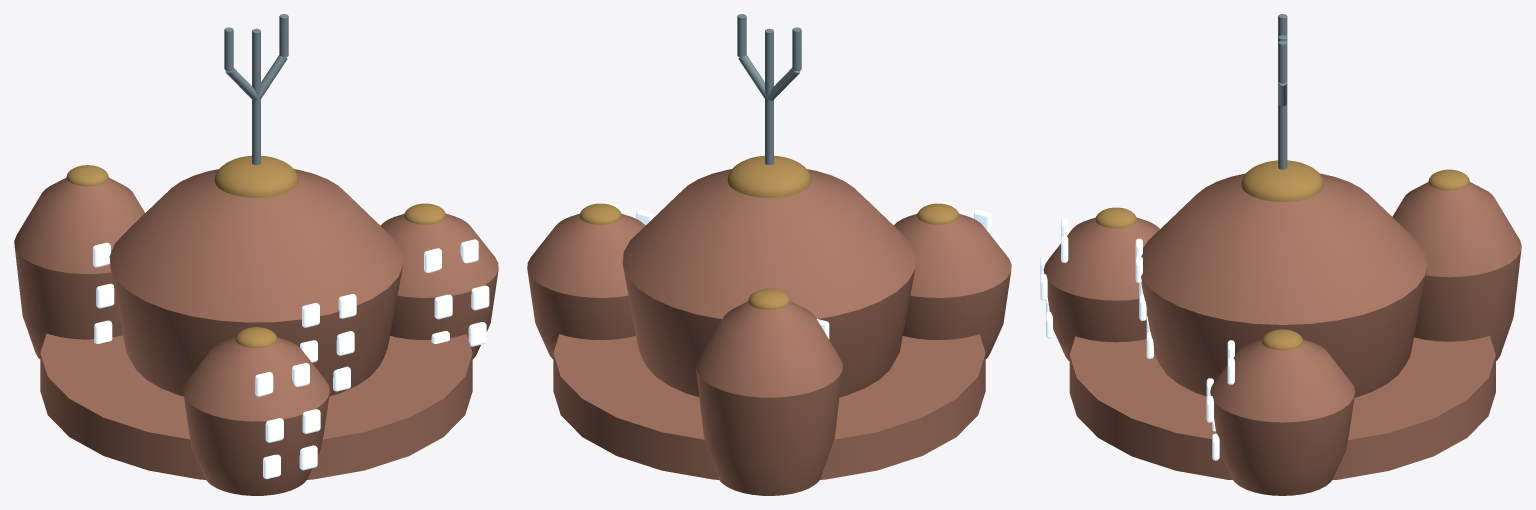
The picture shows the model from 3 angles, left to right: view 1: azimuth 30°, elevation 25°; view 2: azimuth 150°, elevation 25°; view 3: azimuth 270°, elevation 25°; orthographic projection.
Parts seen in each view (by area): view 1: Bulb shaped chamber, Foundation drum, Bulb shaped chamber.003, Bulb shaped chamber.002, Bulb shaped chamber.001, Tower crown, Aerial stem, Tower crown.001, Tower crown.003, Tower crown.002; view 2: Bulb shaped chamber, Foundation drum, Bulb shaped chamber.002, Bulb shaped chamber.001, Bulb shaped chamber.003, Tower crown, Aerial stem, Tower crown.001, Tower crown.003, Tower crown.002; view 3: Bulb shaped chamber, Foundation drum, Bulb shaped chamber.001, Bulb shaped chamber.002, Bulb shaped chamber.003, Tower crown, Tower crown.002, Tower crown.003, Tower crown.001, Aerial stem.
Boxes of the visible parts, left/top/right/bottom form: Bulb shaped chamber: left=109, top=169, right=403, bottom=396; Foundation drum: left=40, top=333, right=472, bottom=479; Bulb shaped chamber.003: left=183, top=337, right=329, bottom=495; Bulb shaped chamber.002: left=14, top=177, right=144, bottom=358; Bulb shaped chamber.001: left=380, top=213, right=498, bottom=359; Tower crown: left=214, top=155, right=298, bottom=197; Aerial stem: left=252, top=28, right=260, bottom=164; Tower crown.001: left=404, top=203, right=446, bottom=224; Tower crown.003: left=235, top=327, right=277, bottom=348; Tower crown.002: left=66, top=165, right=108, bottom=186; Bulb shaped chamber: left=622, top=169, right=916, bottom=397; Foundation drum: left=553, top=334, right=985, bottom=479; Bulb shaped chamber.002: left=696, top=301, right=842, bottom=495; Bulb shaped chamber.001: left=527, top=213, right=645, bottom=359; Bulb shaped chamber.003: left=894, top=213, right=1011, bottom=358; Tower crown: left=727, top=155, right=811, bottom=197; Aerial stem: left=765, top=28, right=773, bottom=164; Tower crown.001: left=579, top=203, right=621, bottom=224; Tower crown.003: left=917, top=203, right=959, bottom=224; Tower crown.002: left=748, top=288, right=790, bottom=309; Bulb shaped chamber: left=1141, top=173, right=1427, bottom=397; Foundation drum: left=1069, top=335, right=1495, bottom=479; Bulb shaped chamber.001: left=1210, top=339, right=1355, bottom=495; Bulb shaped chamber.002: left=1392, top=182, right=1521, bottom=360; Bulb shaped chamber.003: left=1043, top=217, right=1159, bottom=361; Tower crown: left=1241, top=160, right=1323, bottom=201; Tower crown.002: left=1428, top=169, right=1469, bottom=190; Tower crown.003: left=1095, top=207, right=1136, bottom=228; Tower crown.001: left=1262, top=329, right=1303, bottom=350; Aerial stem: left=1278, top=35, right=1287, bottom=169.
Bounding box in the file's own units: 2.29 × 1.92 × 2.3.
